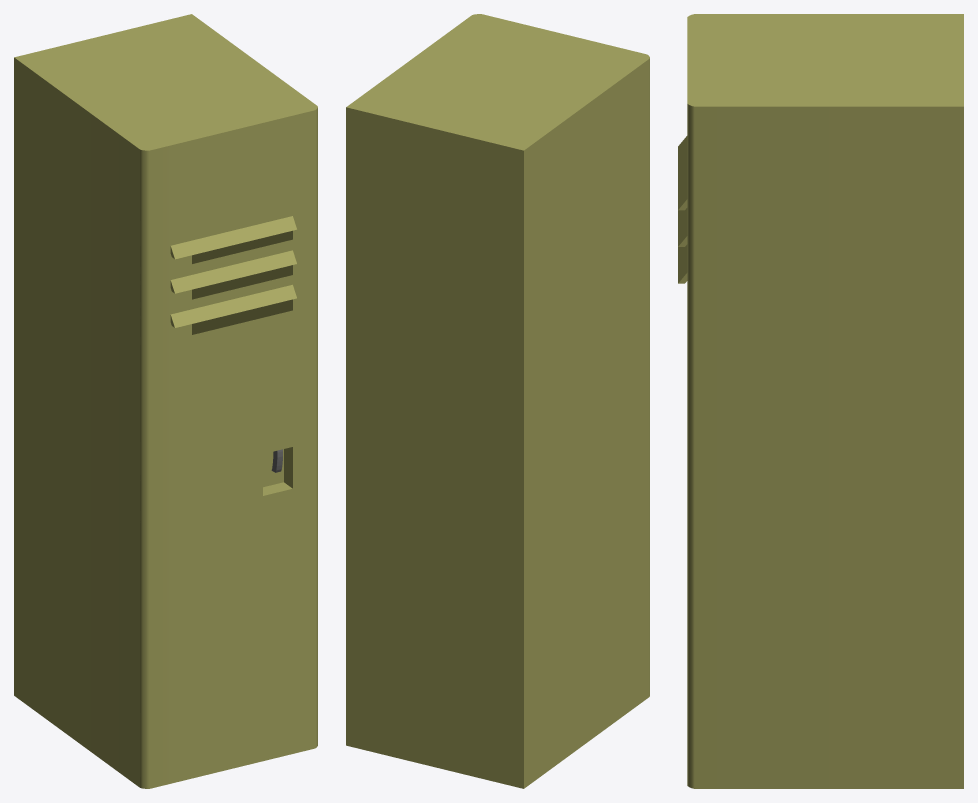
Rendered from Gold-Locker_Lab.fbx.
The picture shows the model from 3 angles, left to right: view 1: azimuth 30°, elevation 25°; view 2: azimuth 150°, elevation 25°; view 3: azimuth 270°, elevation 25°; orthographic projection. The views are drawn at different scales.
Visible parts, largest first — view 1: polySurface2; view 2: polySurface2; view 3: polySurface2.
Boxes of the visible parts, x1,y1,x2,y2 form: polySurface2: [14, 14, 317, 788]; polySurface2: [346, 14, 649, 788]; polySurface2: [678, 14, 963, 788].
Bounding box in the file's own units: 2.17 × 7.46 × 2.83.
